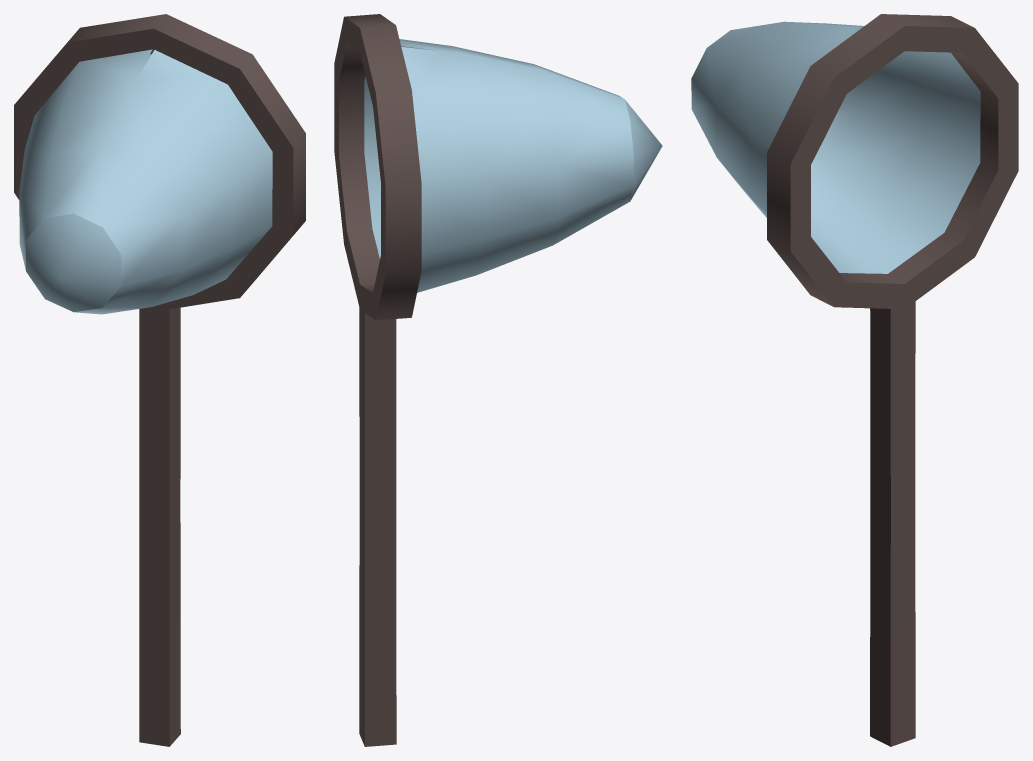
Rendered from Prop_Net.FBX.
The picture shows the model from 3 angles, left to right: view 1: azimuth 30°, elevation 25°; view 2: azimuth 150°, elevation 25°; view 3: azimuth 270°, elevation 25°; orthographic projection.
Visible parts, largest first — view 1: Prop_Net; view 2: Prop_Net; view 3: Prop_Net.
Part boxes in pixels (box(x1,y1,x2,y2)): Prop_Net: box(14, 14, 305, 746); Prop_Net: box(334, 14, 662, 746); Prop_Net: box(691, 14, 1018, 746).
Bounding box in the file's own units: 41.59 × 97.99 × 40.5.
